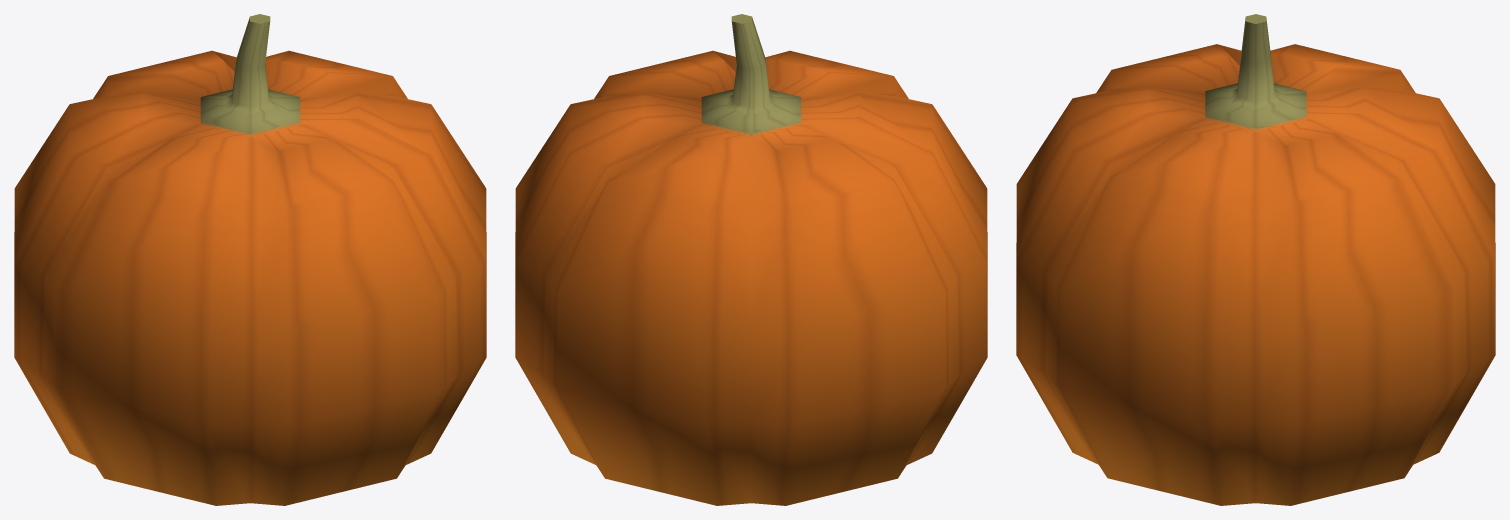
Rendered from 001-pumpkin.FBX.
3 renders of one model, left to right at view 1: azimuth 30°, elevation 25°; view 2: azimuth 150°, elevation 25°; view 3: azimuth 270°, elevation 25°, orthographic.
Parts seen in each view (by area): view 1: 001-pumpkin; view 2: 001-pumpkin; view 3: 001-pumpkin.
Part boxes in pixels (left/top/right/bottom): 001-pumpkin: left=14, top=14, right=486, bottom=505; 001-pumpkin: left=515, top=14, right=987, bottom=505; 001-pumpkin: left=1016, top=14, right=1495, bottom=505.
Bounding box in the file's own units: 18.97 × 17.99 × 18.05.
